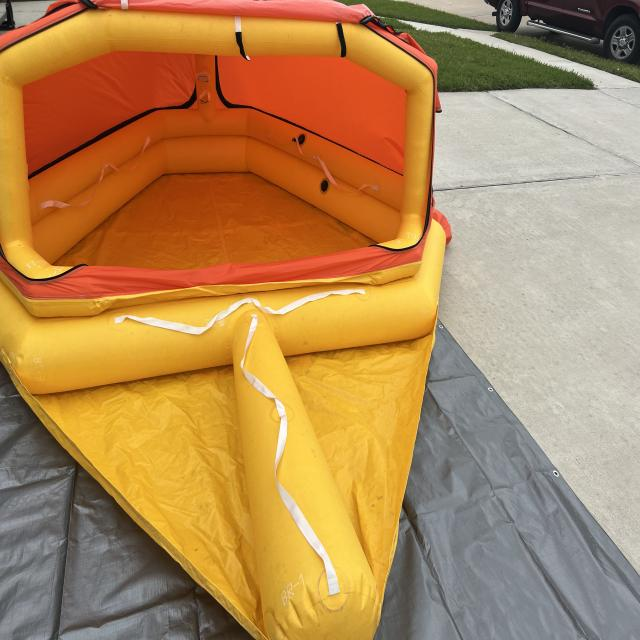Multi-person_life_raft: (0, 1, 452, 638)
